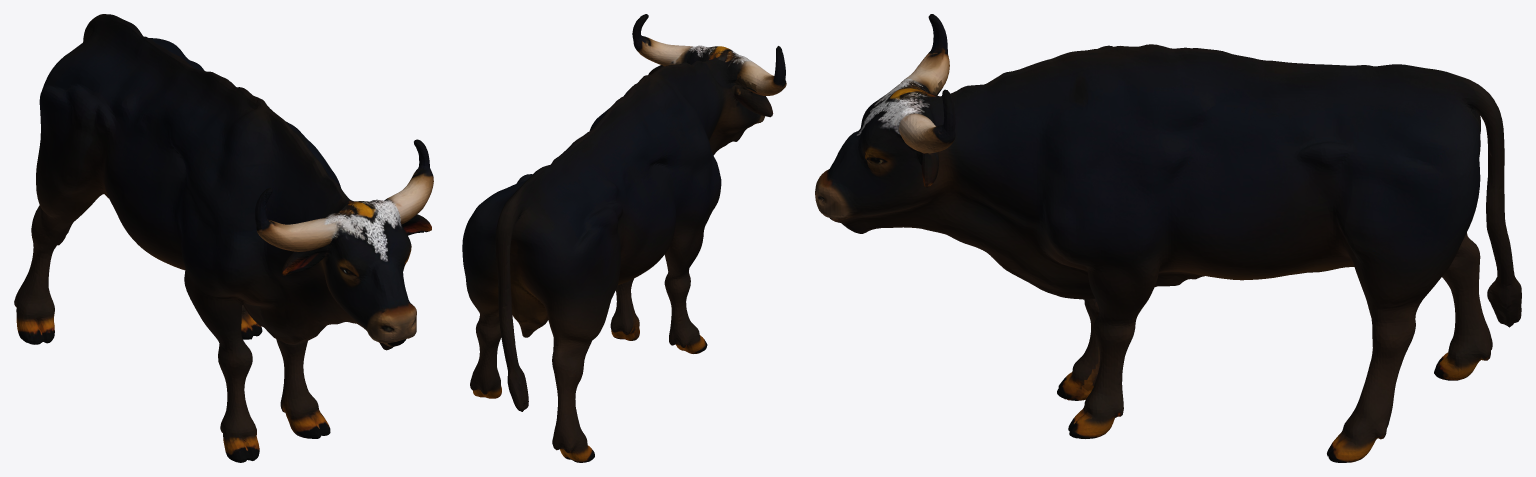
Rendered from quadruped_bull.glb.
The picture shows the model from 3 angles, left to right: view 1: azimuth 30°, elevation 25°; view 2: azimuth 150°, elevation 25°; view 3: azimuth 270°, elevation 25°; orthographic projection. The views are drawn at different scales.
Parts seen in each view (by area): view 1: textured_mesh.obj; view 2: textured_mesh.obj; view 3: textured_mesh.obj.
Boxes of the visible parts, bbox=[...] form: textured_mesh.obj: bbox=[14, 14, 433, 462]; textured_mesh.obj: bbox=[462, 14, 786, 462]; textured_mesh.obj: bbox=[815, 14, 1521, 462].
Bounding box in the file's own units: 0.6768 × 1.15 × 1.99.
Materials: 1 (1 with a texture image).
